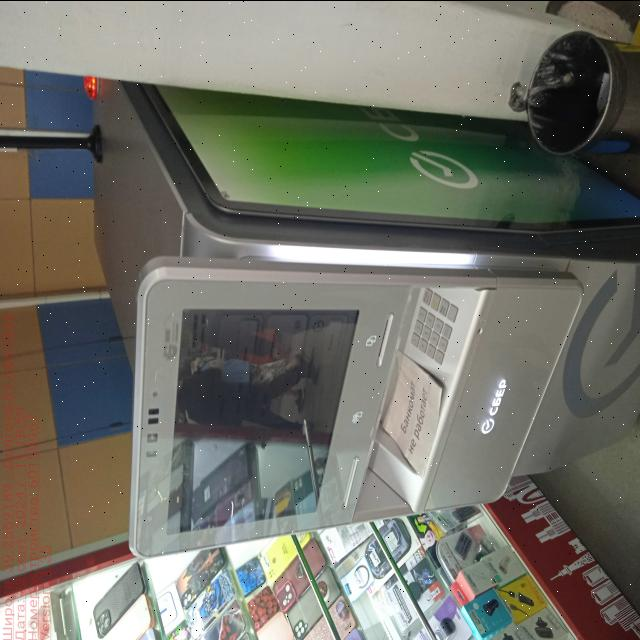bank: (78, 90, 640, 555)
